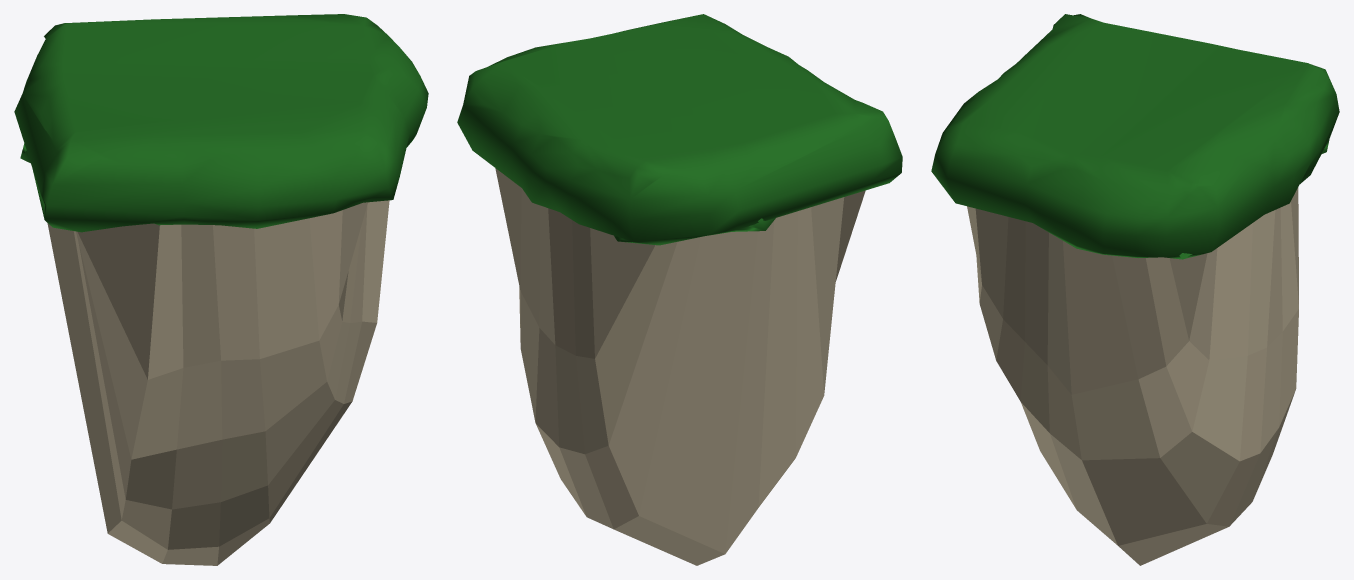
File: SM_MiniIsland1.fbx
3 renders of one model, left to right at view 1: azimuth 30°, elevation 25°; view 2: azimuth 150°, elevation 25°; view 3: azimuth 270°, elevation 25°, orthographic. The views are drawn at different scales.
Visible parts, largest first — view 1: SM_MiniIsland5; view 2: SM_MiniIsland5; view 3: SM_MiniIsland5.
Boxes of the visible parts, bbox=[...] form: SM_MiniIsland5: bbox=[14, 14, 428, 565]; SM_MiniIsland5: bbox=[457, 14, 902, 565]; SM_MiniIsland5: bbox=[931, 14, 1339, 565].
Size of the model in its own units: 4.55 by 5.25 by 4.09.
